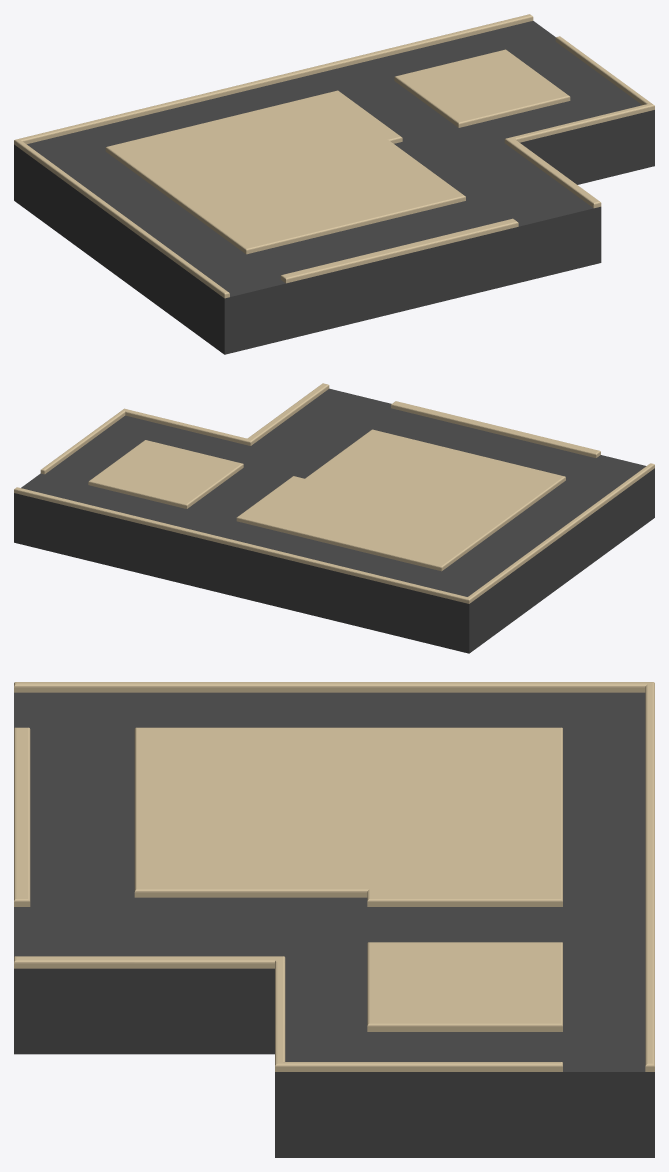
File: EstradaBloco1e2.fbx
3 views of the same model, one above another, from view 1: azimuth 30°, elevation 25°; view 2: azimuth 150°, elevation 25°; view 3: azimuth 270°, elevation 25° (orthographic). The views are drawn at different scales.
Visible parts, largest first — view 1: Cube.004; view 2: Cube.004; view 3: Cube.004.
Part boxes in pixels (x1,y1,x2,y2): Cube.004: (14,14,654,354); Cube.004: (14,383,654,653); Cube.004: (14,682,654,1157).
Size of the model in its own units: 279 by 31.61 by 197.
